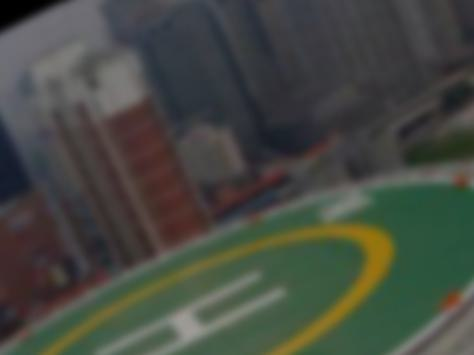Apron: (1, 210, 406, 355)
